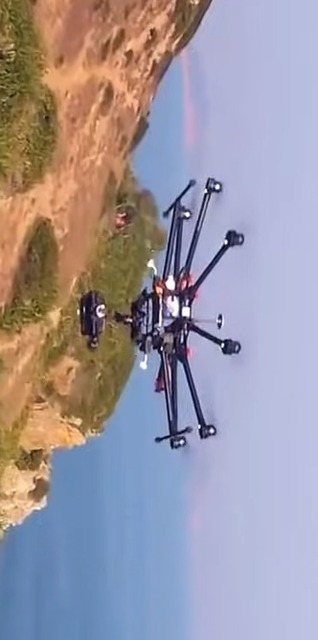drone: (80, 178, 244, 451)
